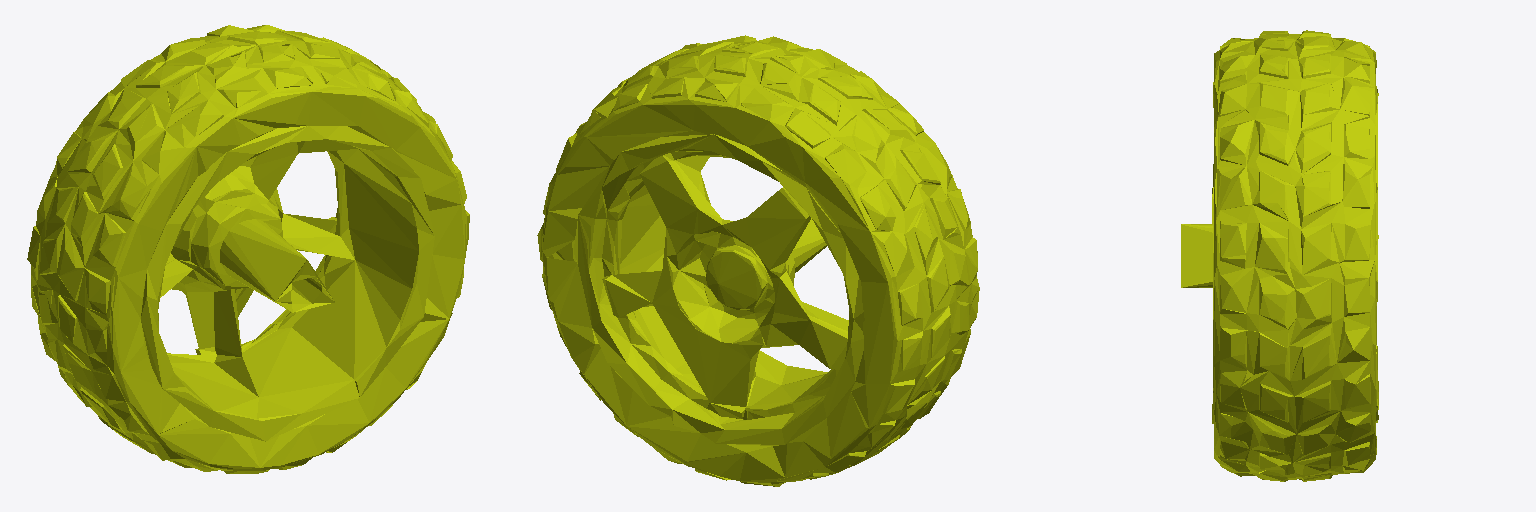
File: wheel.obj
The picture shows the model from 3 angles: view 1: azimuth 30°, elevation 25°; view 2: azimuth 150°, elevation 25°; view 3: azimuth 270°, elevation 25°; orthographic projection.
Parts seen in each view (by area): view 1: wheel; view 2: wheel; view 3: wheel.
Boxes of the visible parts, box(x1,y1,x2,y2) form: wheel: box(27, 25, 469, 473); wheel: box(537, 35, 979, 486); wheel: box(1181, 30, 1378, 481).
Size of the model in its own units: 0.0691 by 0.069 by 0.0303.